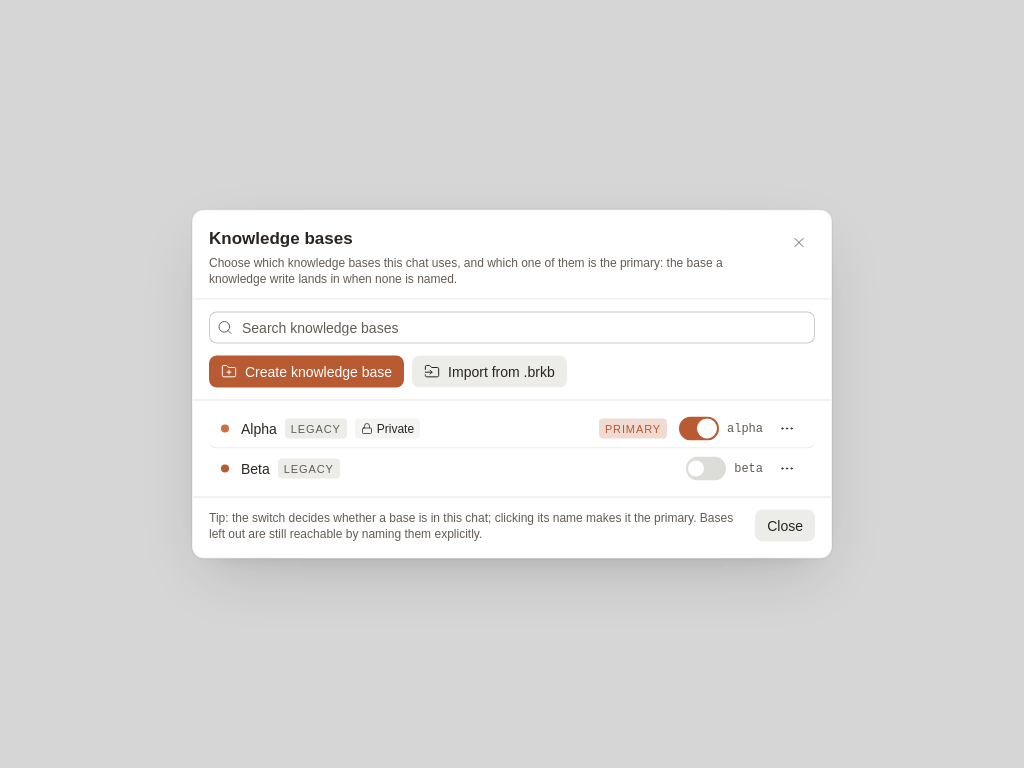
it: KBManagerDialog › answers a search that matches nothing with the EmptyState primitive
Type "nothing-matches-this" into the field with test id "knowledge-kb-search" at (512, 328), box [209, 312, 815, 344]
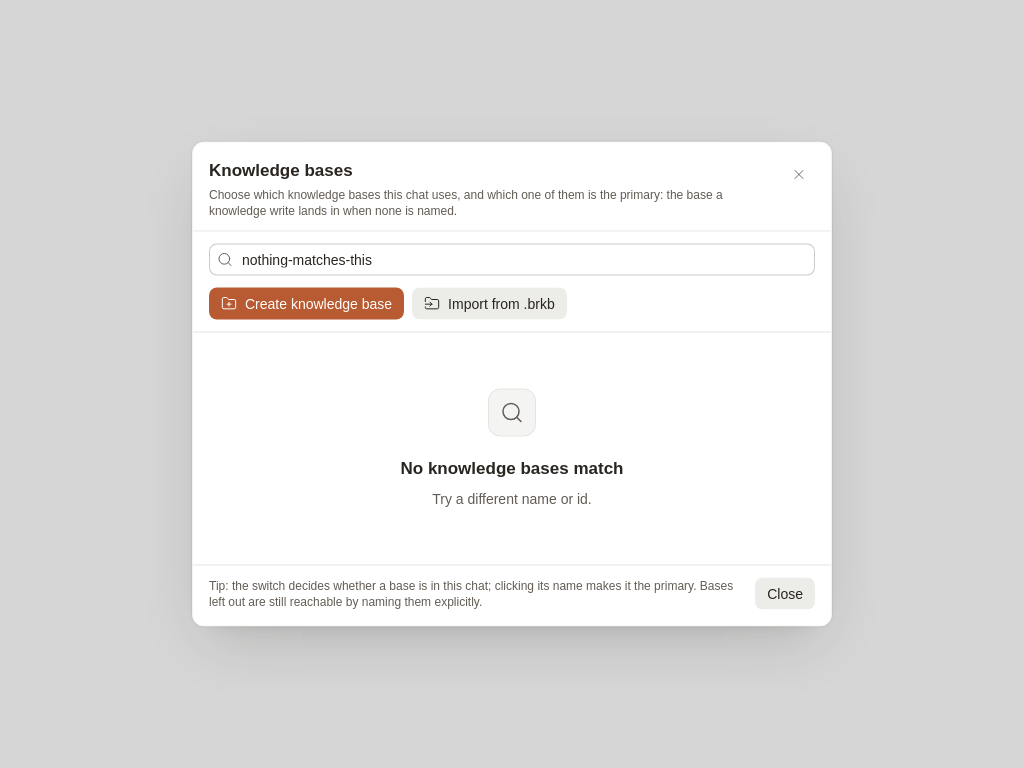
Expected: the heading "No knowledge bases match" is shown, [400, 456, 624, 480]
Expected: the option is gone
